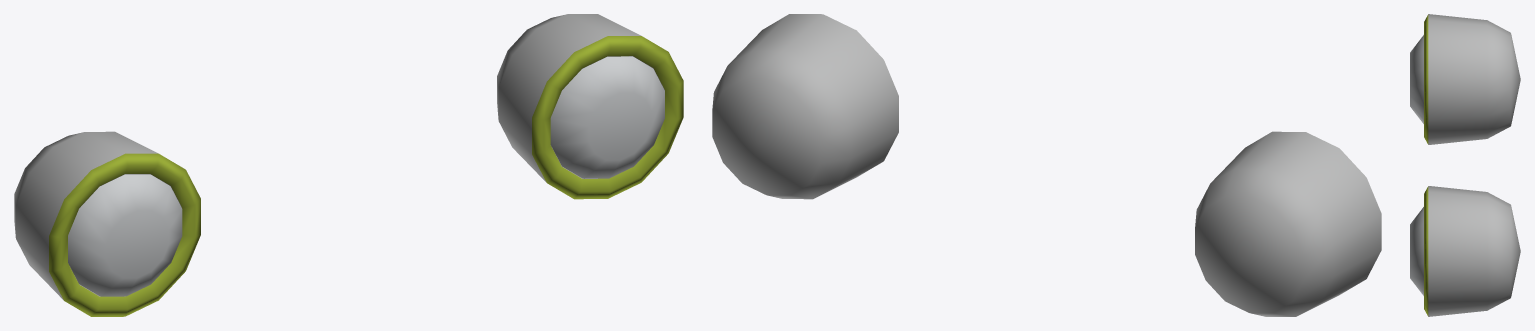
Rendered from Car_15_Headlight_Cool.fbx.
The picture shows the model from 3 angles, left to right: view 1: azimuth 30°, elevation 25°; view 2: azimuth 150°, elevation 25°; view 3: azimuth 270°, elevation 25°; orthographic projection. The views are drawn at different scales.
Parts seen in each view (by area): view 1: Car_15_Headlight_Cool; view 2: Car_15_Headlight_Cool; view 3: Car_15_Headlight_Cool.
Boxes of the visible parts, x1=… form: Car_15_Headlight_Cool: x1=14, y1=14, x2=683, y2=316; Car_15_Headlight_Cool: x1=712, y1=14, x2=1381, y2=316; Car_15_Headlight_Cool: x1=1410, y1=14, x2=1520, y2=316.
Bounding box in the file's own units: 111 × 22.88 × 27.12.
